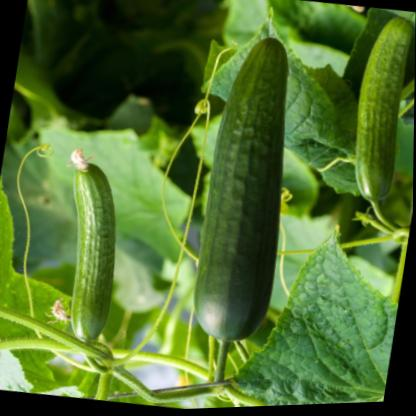cucumber: (175, 34, 312, 358), (28, 144, 142, 358), (334, 11, 416, 233)
